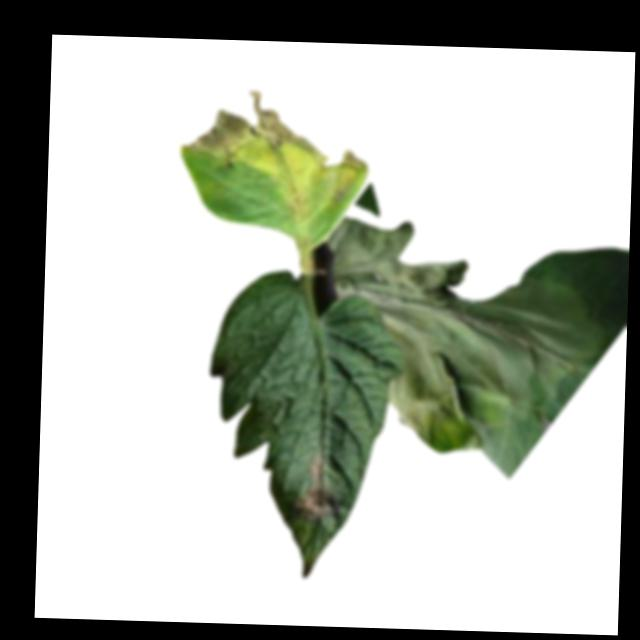Late_blight: (329, 223, 611, 448), (186, 87, 360, 222), (298, 452, 340, 526)
